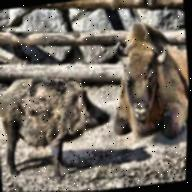boar: (85, 0, 192, 128)
